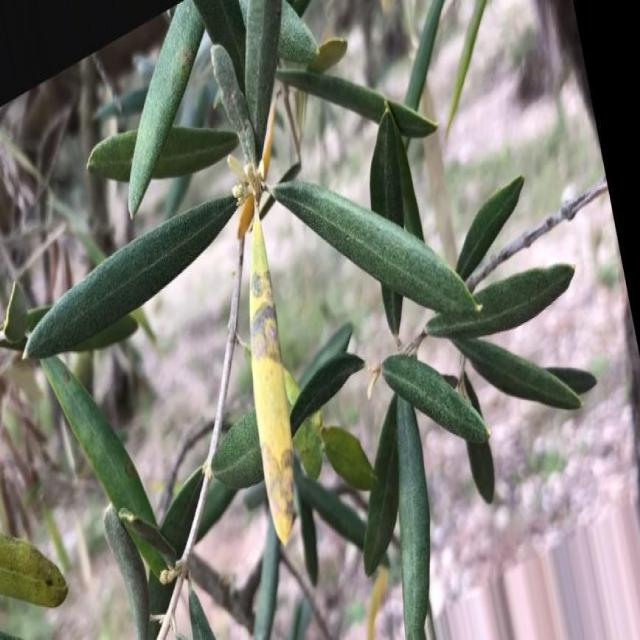Peacock Eye: (248, 208, 295, 545)
